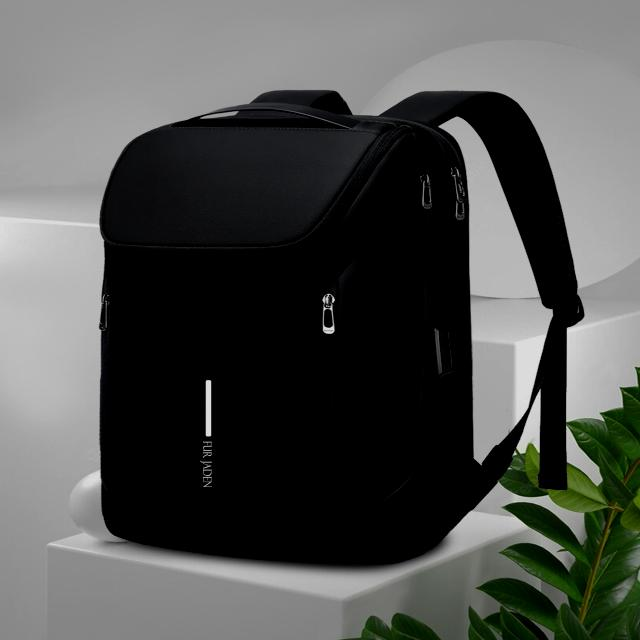backpack: (98, 89, 586, 567)
